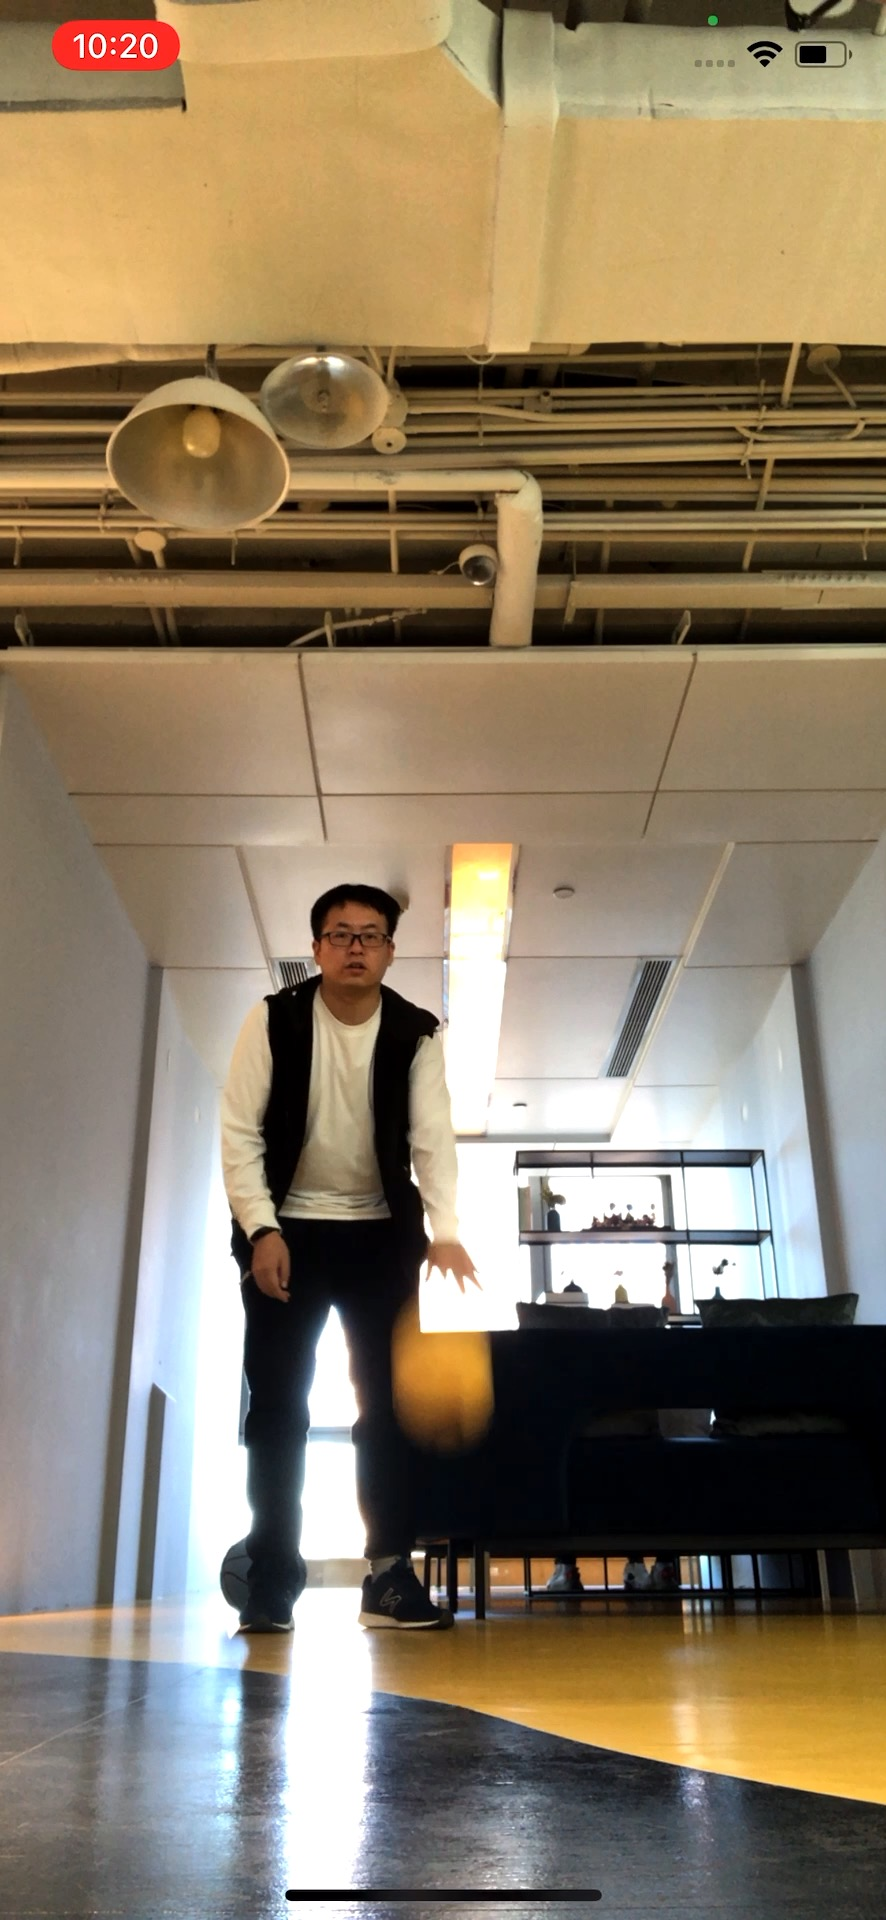ball: (396, 1322, 498, 1445)
